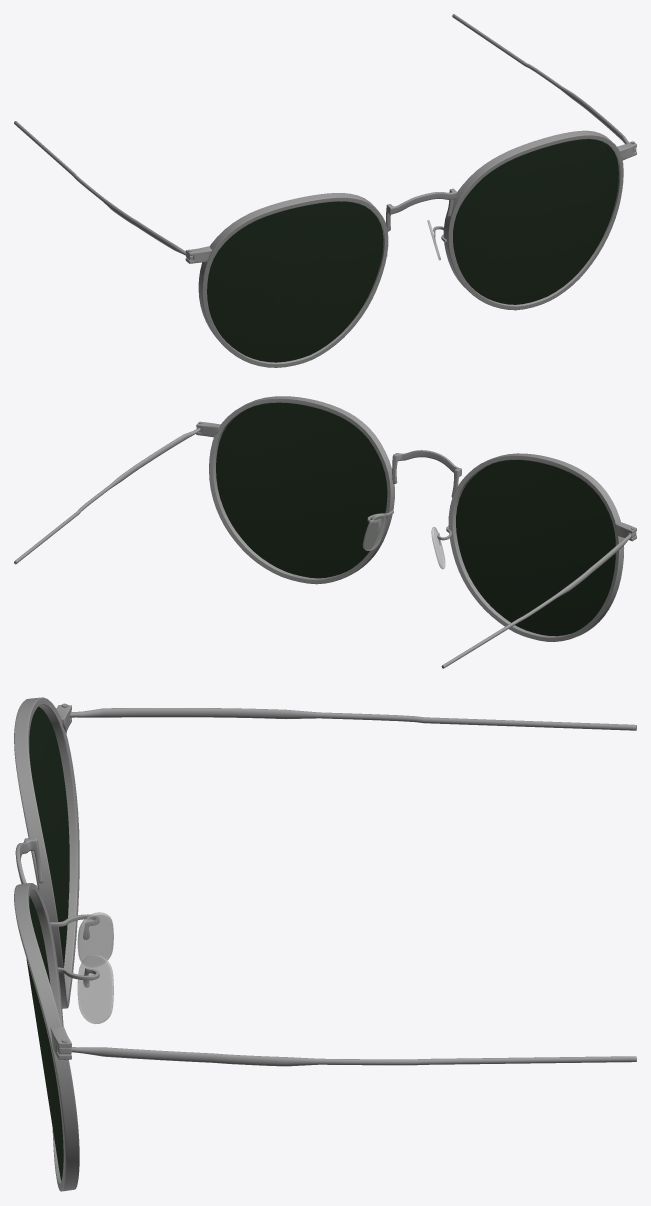
The model's file is ROUND_app_GLB.glb.
3 views of the same model, one above another, from view 1: azimuth 30°, elevation 25°; view 2: azimuth 150°, elevation 25°; view 3: azimuth 270°, elevation 25° (orthographic). The views are drawn at different scales.
Visible parts, largest first — view 1: Lentes.001, Armacao; view 2: Lentes.001, Armacao, Pontes.001; view 3: Armacao, Lentes.001, Pontes.001.
Boxes of the visible parts, <box> form: Lentes.001: <box>207,139,618,362</box>; Armacao: <box>14,14,636,367</box>; Lentes.001: <box>216,402,615,636</box>; Armacao: <box>14,396,636,668</box>; Pontes.001: <box>362,514,445,569</box>; Armacao: <box>14,697,636,1191</box>; Lentes.001: <box>26,706,69,1180</box>; Pontes.001: <box>77,912,113,1024</box>.
Bounding box in the file's own units: 0.152 × 0.055 × 0.1143.
3 materials, 3 textured.
